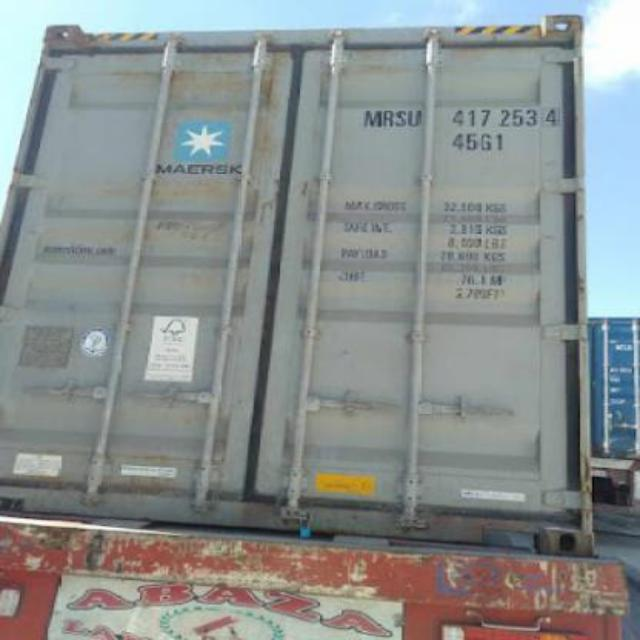1: (468, 108, 478, 128)
2: (496, 108, 512, 128)
3: (526, 108, 538, 128)
4: (542, 108, 560, 128), (450, 108, 466, 128)
5: (512, 108, 524, 126)
7: (478, 105, 492, 128)
M: (362, 108, 382, 128)
R: (382, 109, 396, 127)
S: (394, 109, 408, 129)
U: (408, 109, 422, 129)
